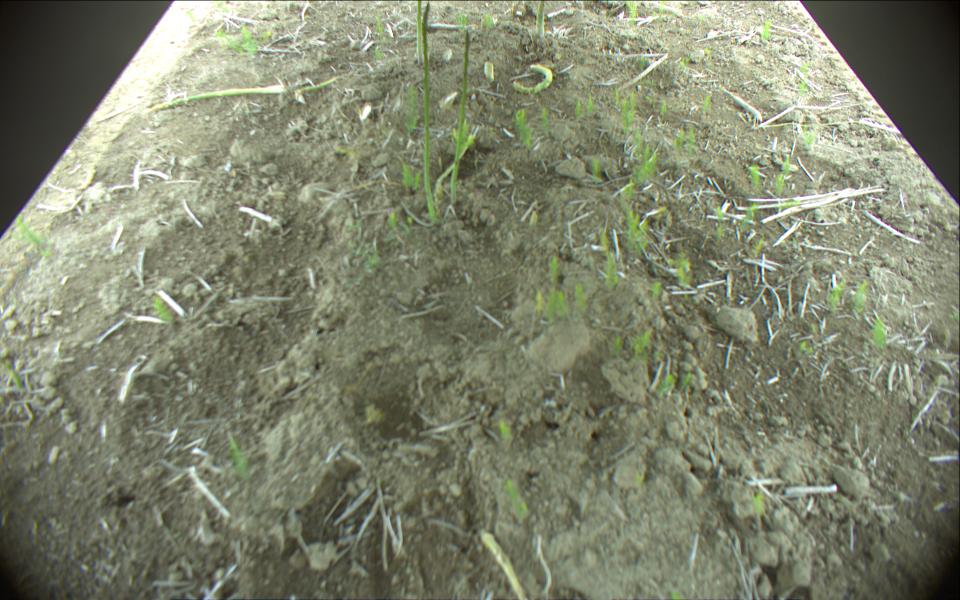aspa: (142, 84, 286, 114), (451, 30, 470, 204), (421, 1, 436, 219), (483, 534, 525, 600), (512, 63, 554, 94), (535, 1, 548, 37), (417, 1, 424, 61)
